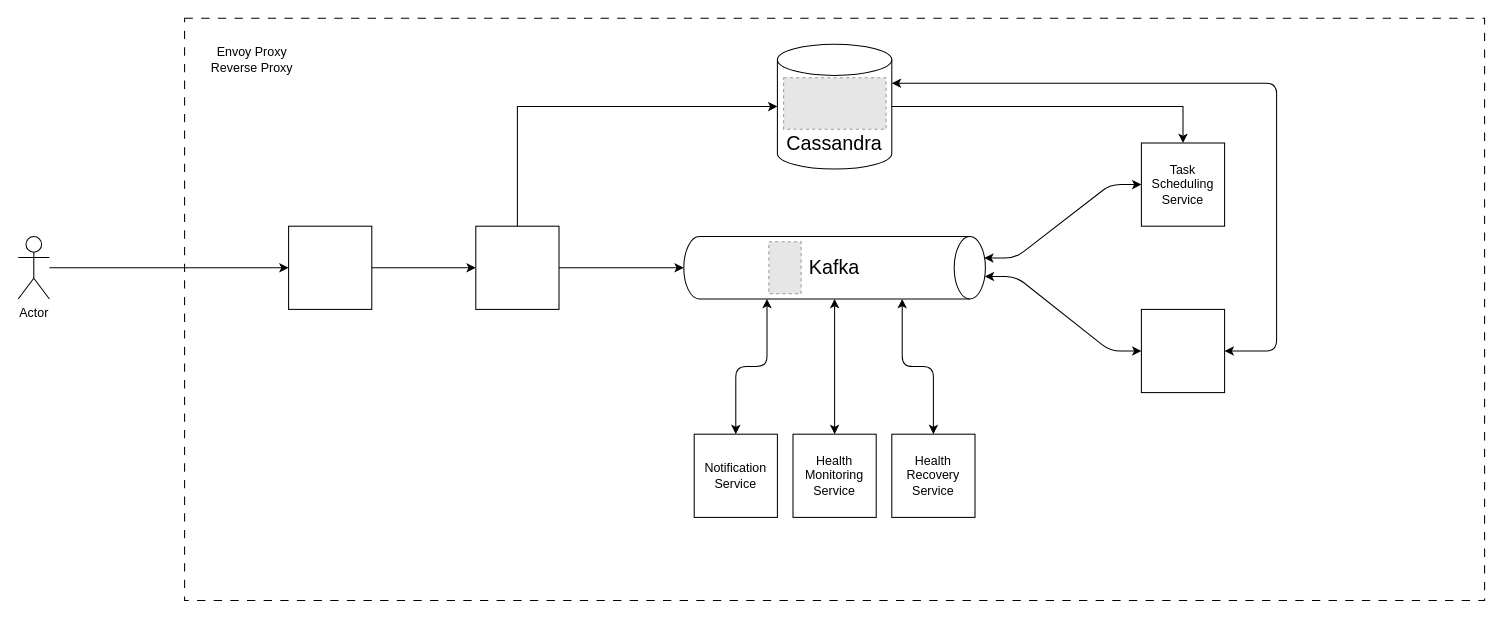
Image size: 1503x619. Some labels were removed from this diagram. Grey dashed boxes stand in for pictures. Each missing label, with the box of its shape:
React Frontend: (288, 225, 372, 309)
Task Editing Service (CRUD): (475, 225, 559, 309)
Task Execution Service: (1140, 308, 1225, 393)
